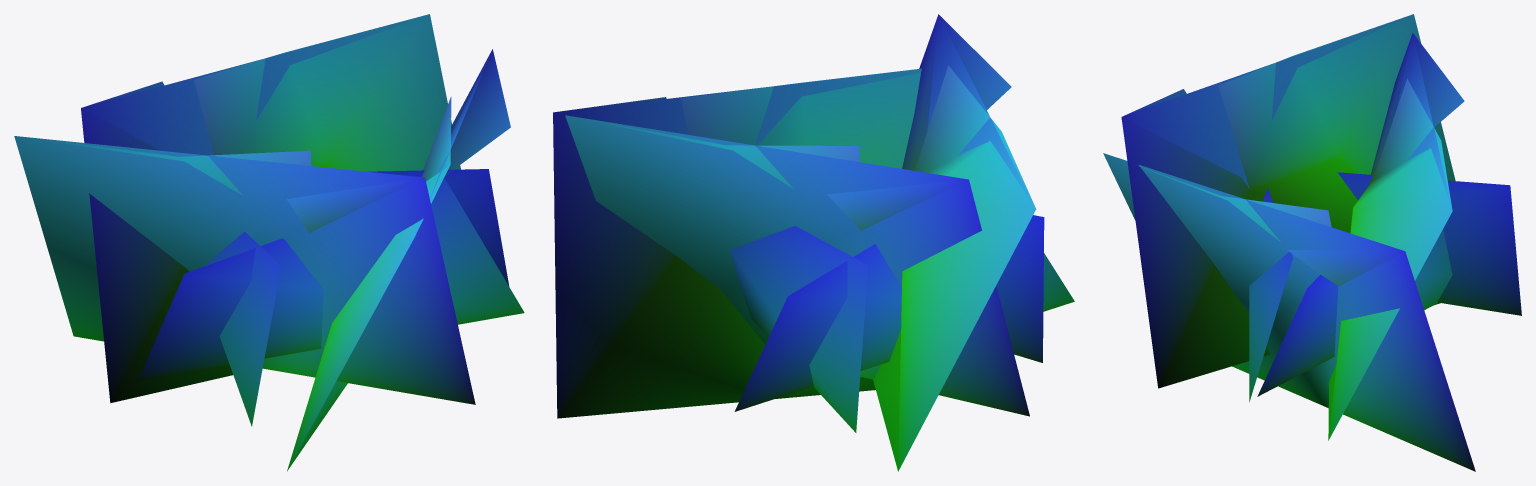
Rendered from grass_patch.dae.
The picture shows the model from 3 angles, left to right: view 1: azimuth 30°, elevation 25°; view 2: azimuth 150°, elevation 25°; view 3: azimuth 270°, elevation 25°; orthographic projection. The views are drawn at different scales.
Parts seen in each view (by area): view 1: grass_patch_a500_001, grass_patch_a350; view 2: grass_patch_a500_001, grass_patch_a350; view 3: grass_patch_a500_001, grass_patch_a350.
Boxes of the visible parts, bbox=[...] form: grass_patch_a500_001: bbox=[18, 14, 524, 470]; grass_patch_a350: bbox=[14, 14, 492, 470]; grass_patch_a500_001: bbox=[553, 15, 1074, 471]; grass_patch_a350: bbox=[553, 14, 1035, 416]; grass_patch_a500_001: bbox=[1112, 14, 1521, 440]; grass_patch_a350: bbox=[1103, 15, 1475, 471].
Size of the model in its own units: 0.9113 by 0.7537 by 0.5597.
